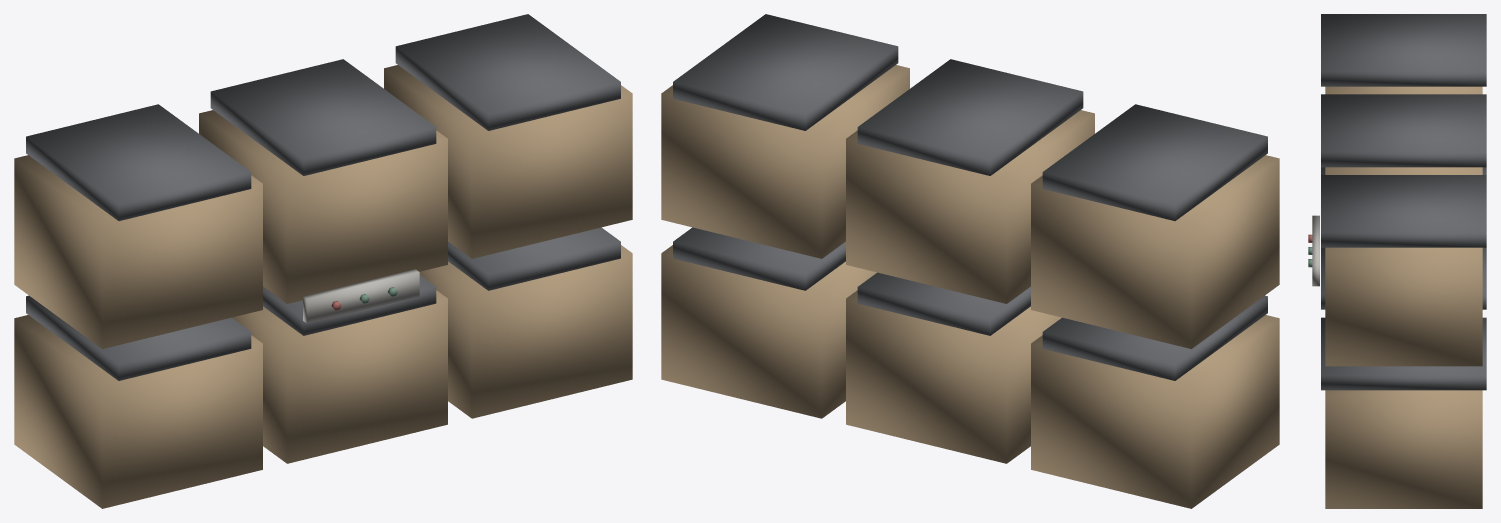
File: produce_stand.glb
The picture shows the model from 3 angles, left to right: view 1: azimuth 30°, elevation 25°; view 2: azimuth 150°, elevation 25°; view 3: azimuth 270°, elevation 25°; orthographic projection. The views are drawn at different scales.
Visible parts, largest first — view 1: world; view 2: world; view 3: world.
Part boxes in pixels (<box>): world: <box>14,14,632,508</box>; world: <box>661,14,1279,508</box>; world: <box>1308,14,1486,508</box>.
Bounding box in the file's own units: 1.32 × 0.72 × 0.431.
